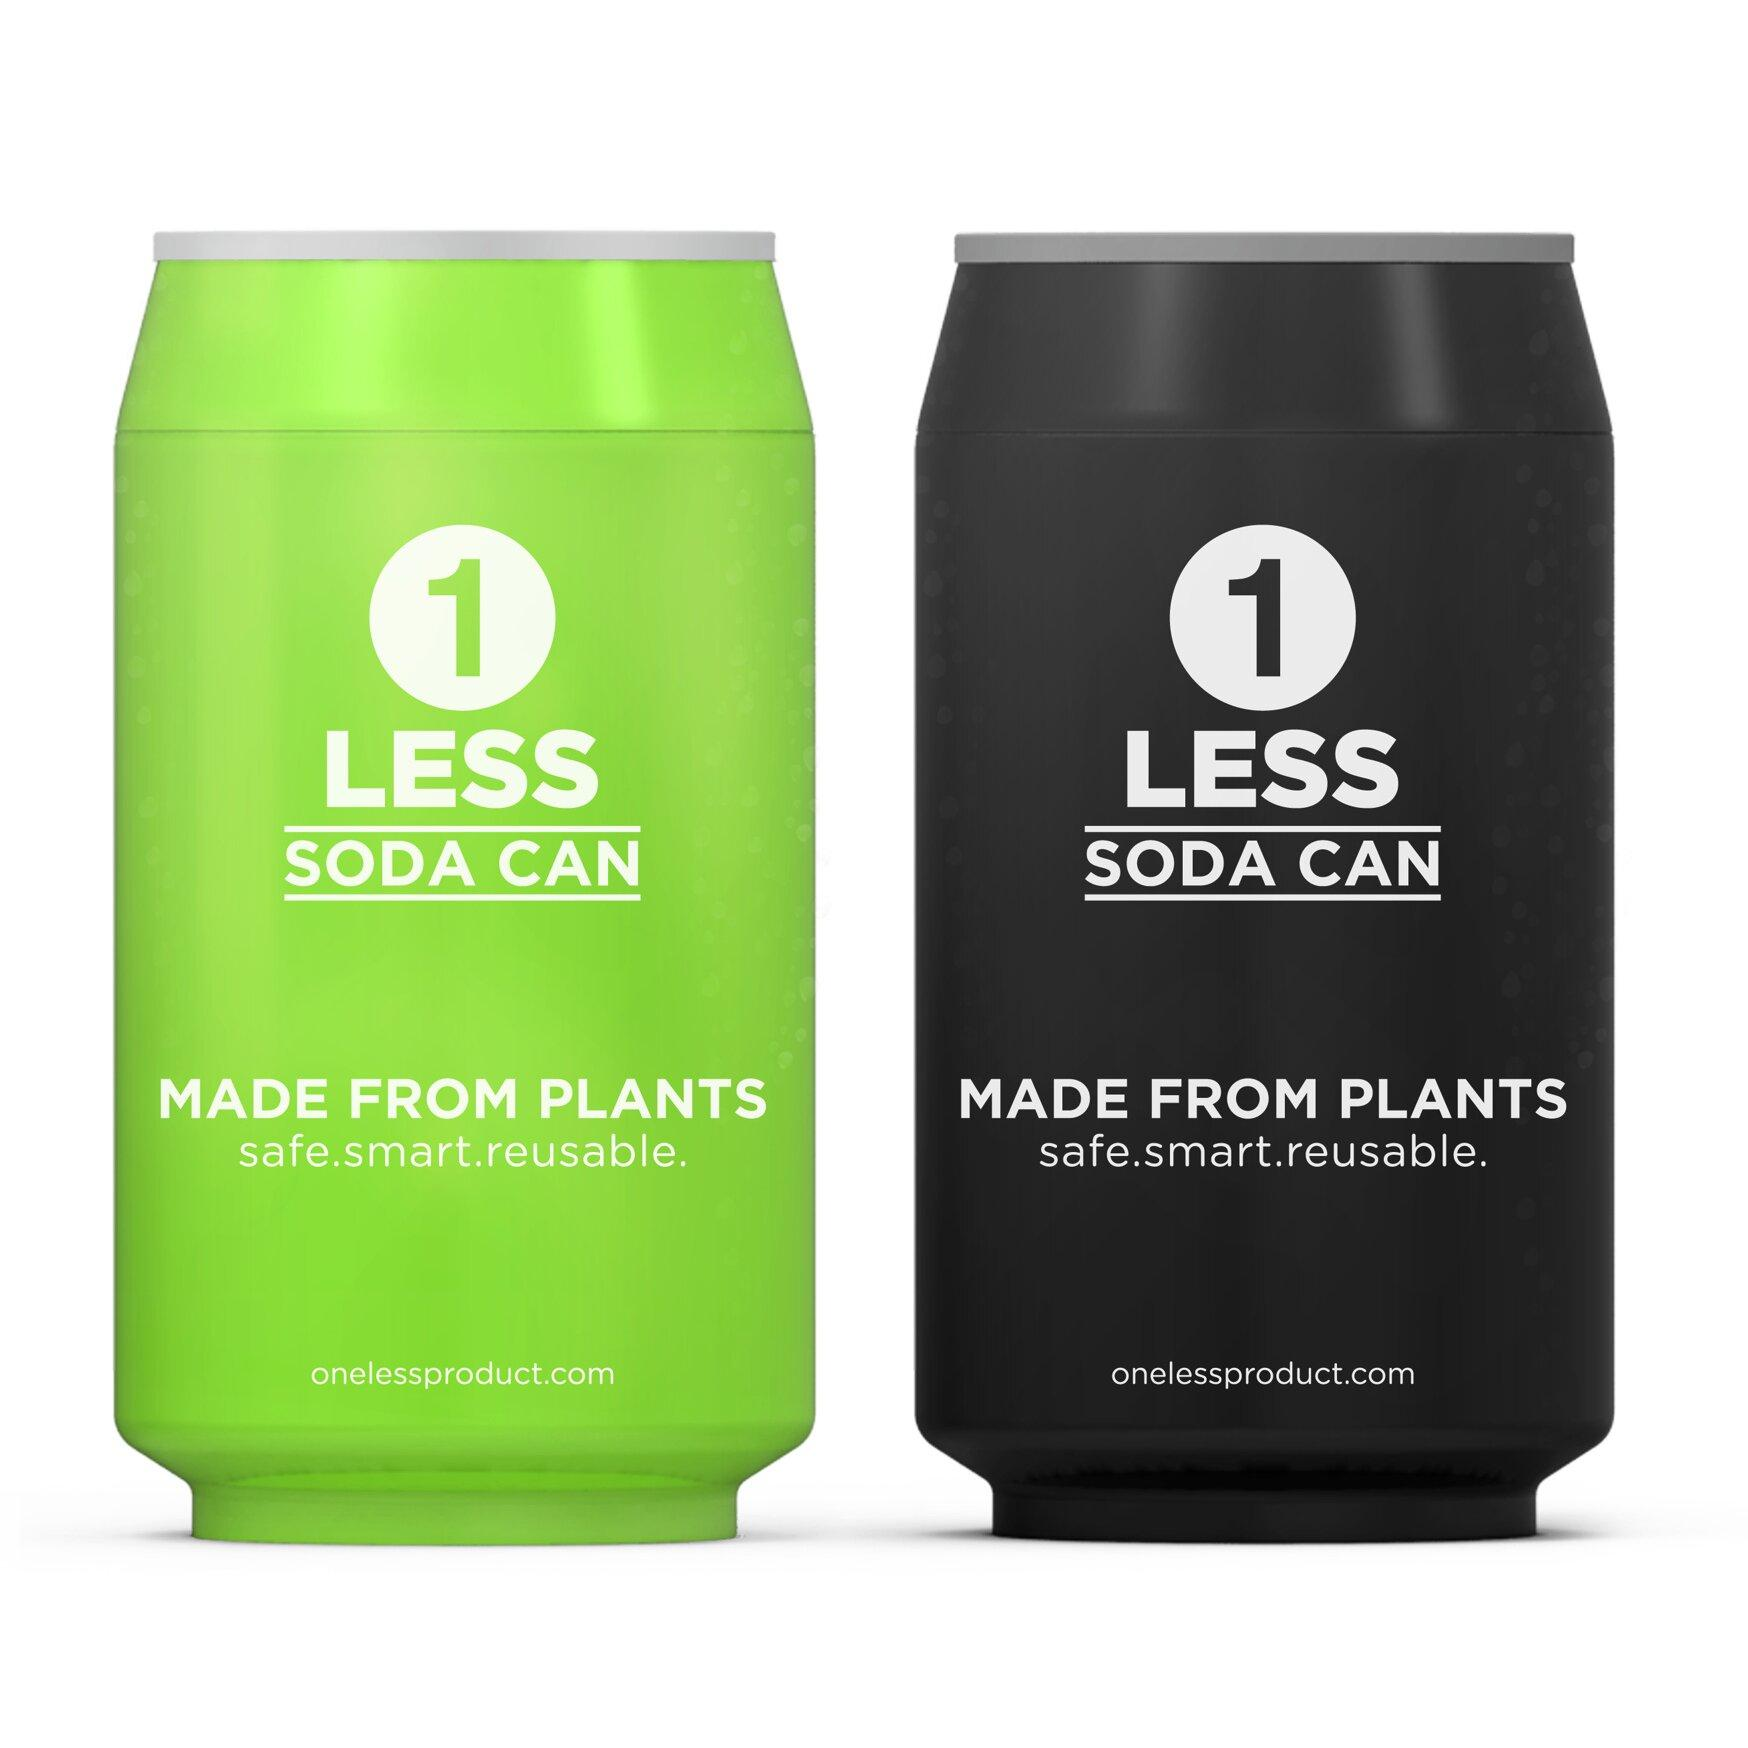can: (901, 215, 1628, 1550), (105, 229, 824, 1548)
